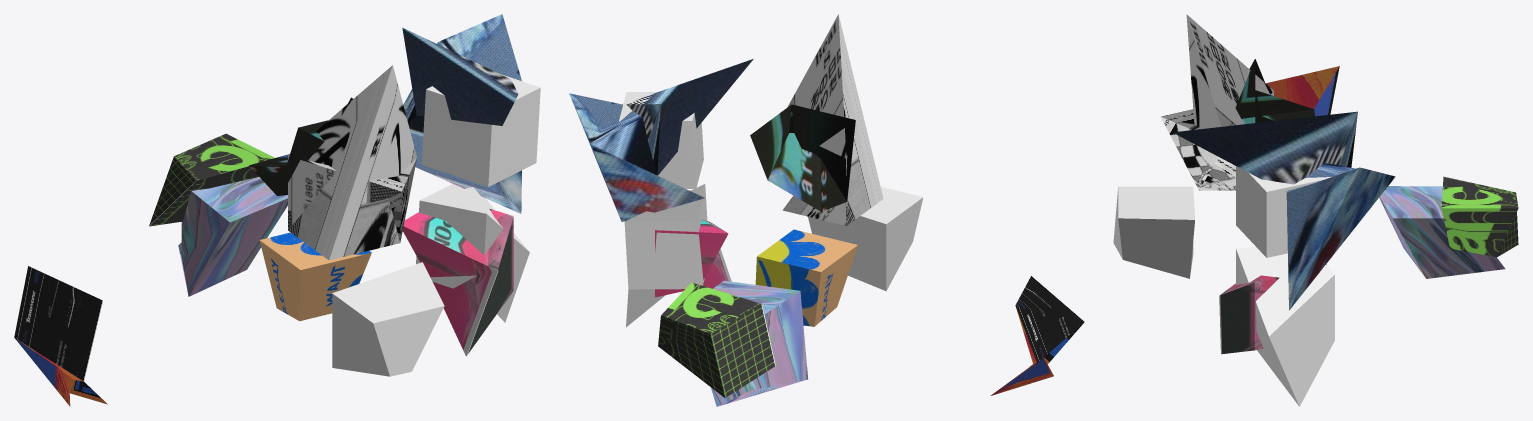
Rendered from triangule.gltf.
3 renders of one model, left to right at view 1: azimuth 30°, elevation 25°; view 2: azimuth 150°, elevation 25°; view 3: azimuth 270°, elevation 25°, orthographic. The views are drawn at different scales.
Visible parts, largest first — view 1: Cube.002, Cube.005, Cube.009, Cube.001, Cube.008, Cube.004, Cube, Cube.006, Cube.007, Cube.003; view 2: Cube.009, Cube.005, Cube.007, Cube.002, Cube.003, Cube.006, Cube.001, Cube.004, Cube, Cube.008; view 3: Cube.009, Cube.005, Cube.002, Cube.001, Cube.004, Cube.007, Cube.008, Cube.003, Cube.
Boxes of the visible parts, bbox=[...] form: Cube.002: bbox=[288, 65, 416, 260]; Cube.005: bbox=[416, 74, 540, 322]; Cube.009: bbox=[402, 14, 521, 213]; Cube.001: bbox=[332, 262, 444, 376]; Cube.008: bbox=[402, 208, 513, 356]; Cube.004: bbox=[178, 177, 287, 296]; Cube: bbox=[14, 266, 107, 406]; Cube.006: bbox=[259, 232, 371, 321]; Cube.007: bbox=[149, 133, 274, 226]; Cube.003: bbox=[249, 97, 352, 195]; Cube.009: bbox=[569, 59, 753, 221]; Cube.005: bbox=[619, 92, 707, 327]; Cube.007: bbox=[658, 282, 775, 397]; Cube.002: bbox=[782, 14, 883, 225]; Cube.003: bbox=[750, 104, 855, 211]; Cube.006: bbox=[755, 229, 857, 326]; Cube.001: bbox=[808, 187, 923, 291]; Cube.004: bbox=[711, 280, 808, 406]; Cube: bbox=[990, 276, 1084, 395]; Cube.008: bbox=[655, 219, 731, 297]; Cube.009: bbox=[1172, 111, 1395, 310]; Cube.005: bbox=[1236, 166, 1334, 406]; Cube.002: bbox=[1161, 14, 1273, 190]; Cube.001: bbox=[1113, 186, 1194, 278]; Cube.004: bbox=[1379, 186, 1505, 278]; Cube.007: bbox=[1441, 176, 1518, 257]; Cube.008: bbox=[1219, 275, 1279, 354]; Cube.003: bbox=[1235, 59, 1314, 124]; Cube: bbox=[1266, 66, 1339, 116].
Bounding box in the file's own units: 14.14 × 9.27 × 10.79.
Materials: 10 (8 with a texture image).
